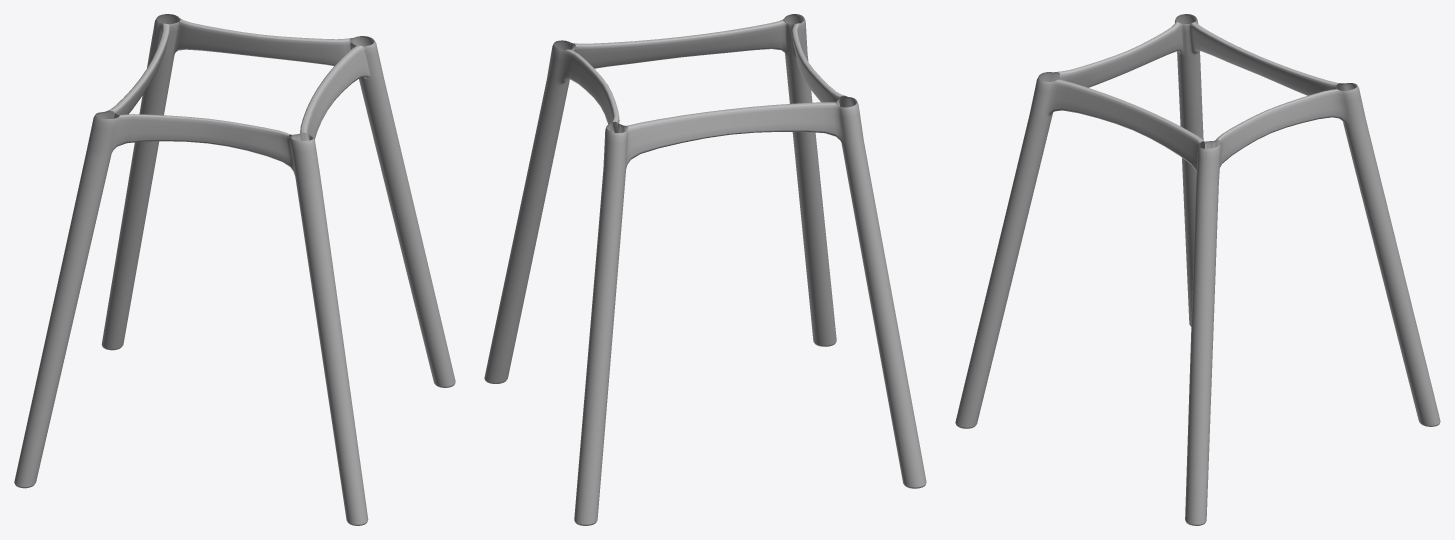
The model's file is tablechair_0101_leg.glb.
The picture shows the model from 3 angles, left to right: view 1: azimuth 30°, elevation 25°; view 2: azimuth 150°, elevation 25°; view 3: azimuth 270°, elevation 25°; orthographic projection. The views are drawn at different scales.
Parts seen in each view (by area): view 1: tablechair_0101_leg; view 2: tablechair_0101_leg; view 3: tablechair_0101_leg.
Boxes of the visible parts, <box> form: tablechair_0101_leg: <box>14,14,455,525</box>; tablechair_0101_leg: <box>484,14,926,525</box>; tablechair_0101_leg: <box>955,14,1440,525</box>.
Bounding box in the file's own units: 0.5743 × 0.4487 × 0.5743.
Materials: 1 (1 with a texture image).
